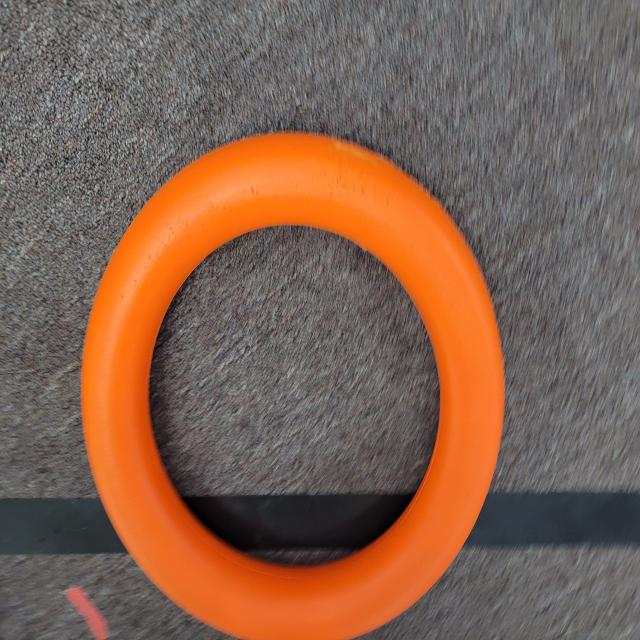note: (72, 124, 514, 640)
